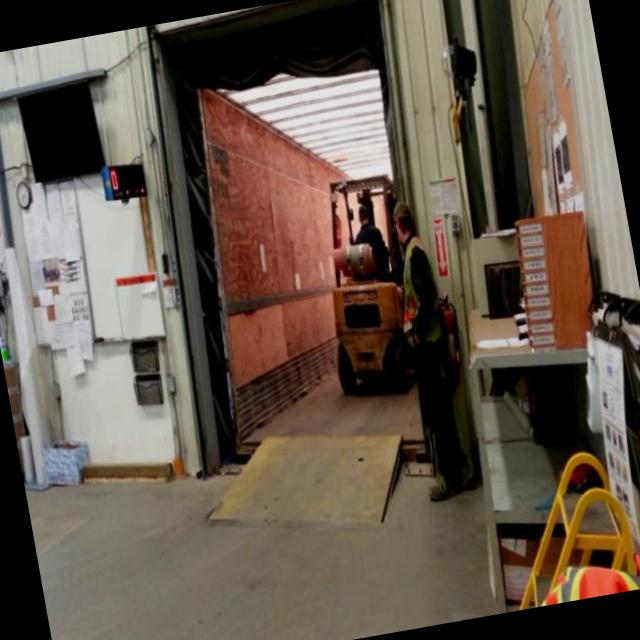driver: (348, 191, 397, 284)
forklift: (295, 158, 438, 409)
person: (376, 194, 481, 516)
